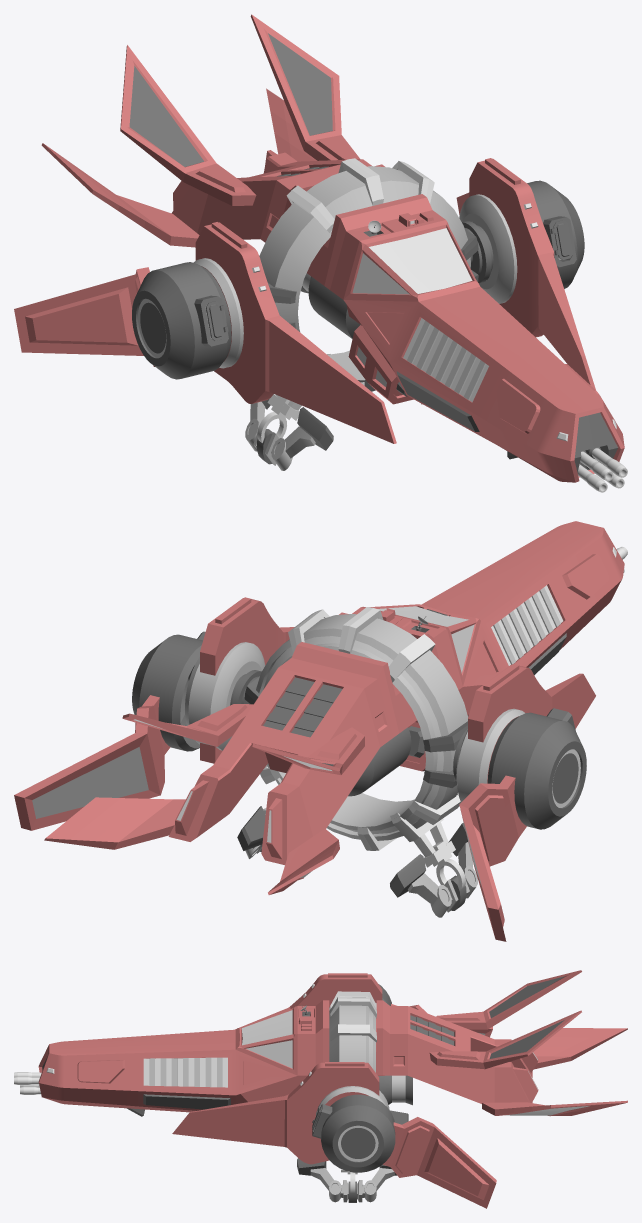
The model's file is spaceship.fbx.
3 views of the same model, one above another, from view 1: azimuth 30°, elevation 25°; view 2: azimuth 150°, elevation 25°; view 3: azimuth 270°, elevation 25° (orthographic). The views are drawn at different scales.
Visible parts, largest first — view 1: Chassis, RocketCannon.001, Wings.001, Wings, Frame, Foot.R, RocketCannon, WingConnectors, Leg.R, FrontGun1; view 2: Chassis, Frame, RocketCannon.001, RocketCannon, Wings, Wings.001, Foot.R, Leg.R, WingConnectors.002, Foot.L, WingConnectors; view 3: Chassis, RocketCannon, Wings, Frame, Wings.001, Foot.L.
Boxes of the visible parts, x1,y1,x2,y2 form: Chassis: [41, 14, 624, 482]; RocketCannon.001: [14, 262, 231, 379]; Wings.001: [193, 222, 396, 443]; Wings: [459, 158, 595, 389]; Frame: [259, 158, 470, 391]; Foot.R: [245, 394, 333, 470]; RocketCannon: [456, 180, 584, 288]; WingConnectors: [461, 221, 493, 283]; Leg.R: [257, 394, 301, 442]; FrontGun1: [580, 448, 627, 481]; Chassis: [44, 521, 624, 894]; Frame: [256, 607, 467, 850]; RocketCannon.001: [459, 708, 586, 941]; RocketCannon: [14, 631, 205, 830]; Wings: [185, 597, 294, 763]; Wings.001: [456, 664, 595, 802]; Foot.R: [390, 822, 477, 917]; Leg.R: [390, 812, 465, 889]; WingConnectors.002: [423, 715, 468, 787]; Foot.L: [237, 806, 265, 858]; WingConnectors: [230, 670, 261, 705]; Chassis: [38, 970, 627, 1116]; RocketCannon: [312, 1094, 496, 1208]; Wings: [172, 1062, 389, 1164]; Frame: [329, 991, 376, 1072]; Wings.001: [235, 973, 382, 1029]; Foot.L: [297, 1158, 396, 1202].
Size of the model in its own units: 1120 by 628 by 1851.
